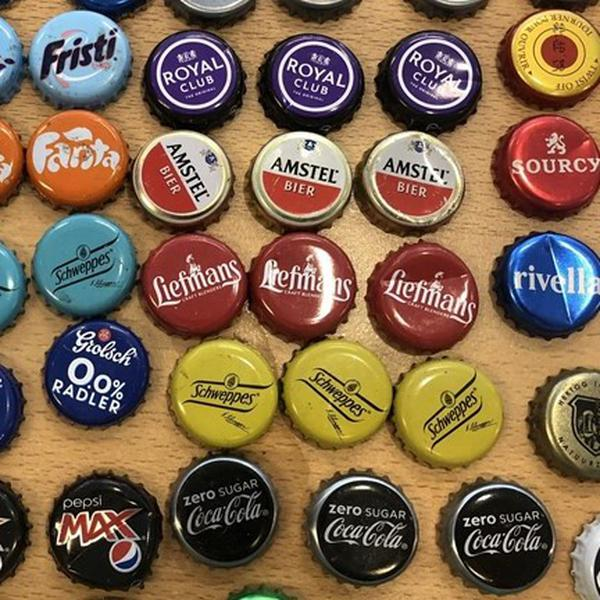amstel: (245, 128, 353, 231), (127, 124, 232, 227), (362, 130, 466, 232)
